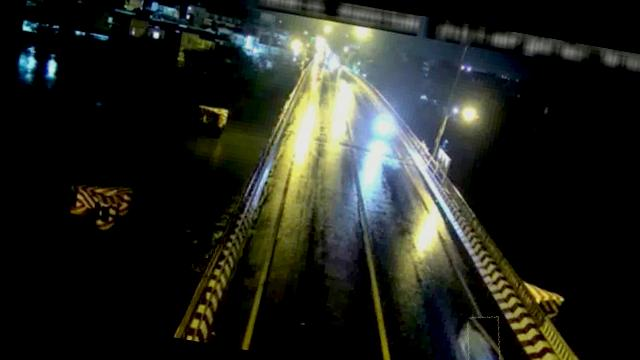Bike: (460, 314, 509, 360)
